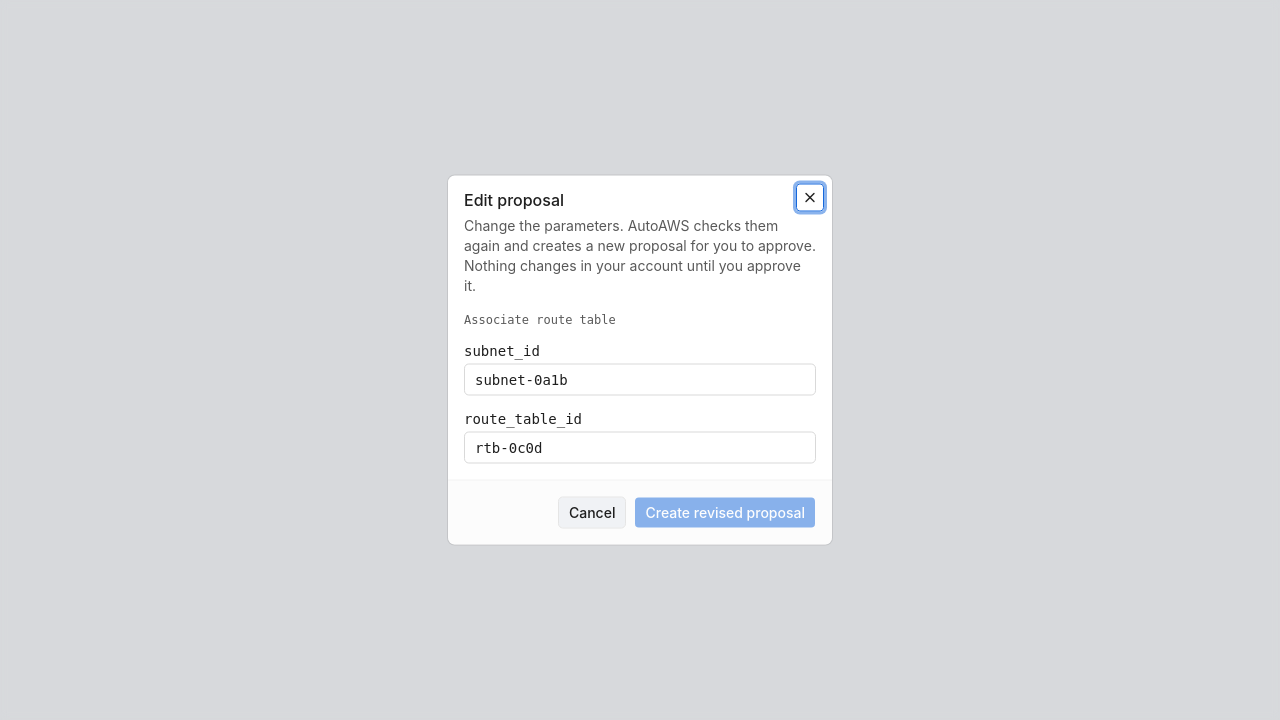
Test case: EditProposalDialog › shows why the server refused the new parameters and stays open
Expected: the field labelled "subnet_id" is shown, [464,364,816,396]
Step 1. Replace the text in the field labelled "route_table_id" with "rtb-0e0f" → (640, 448), box [464,432,816,464]
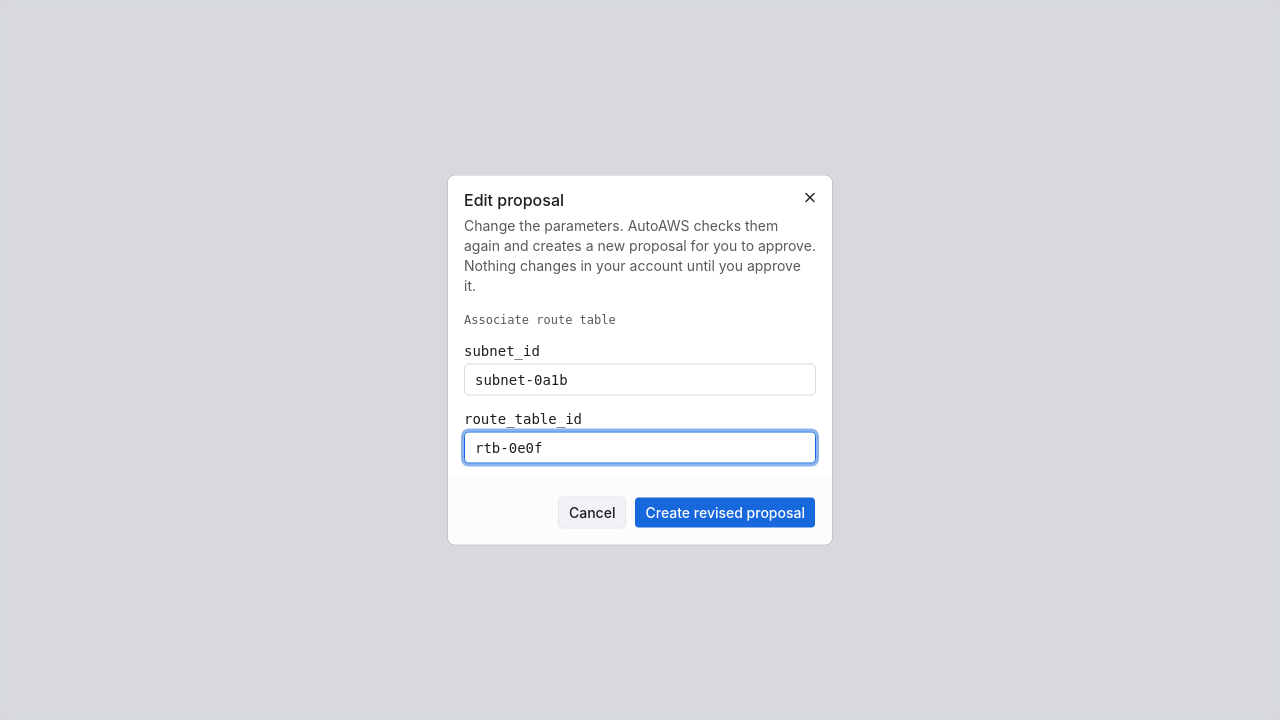
Step 2. Click the button "Create revised proposal" → click(725, 512), box [634,496,816,528]
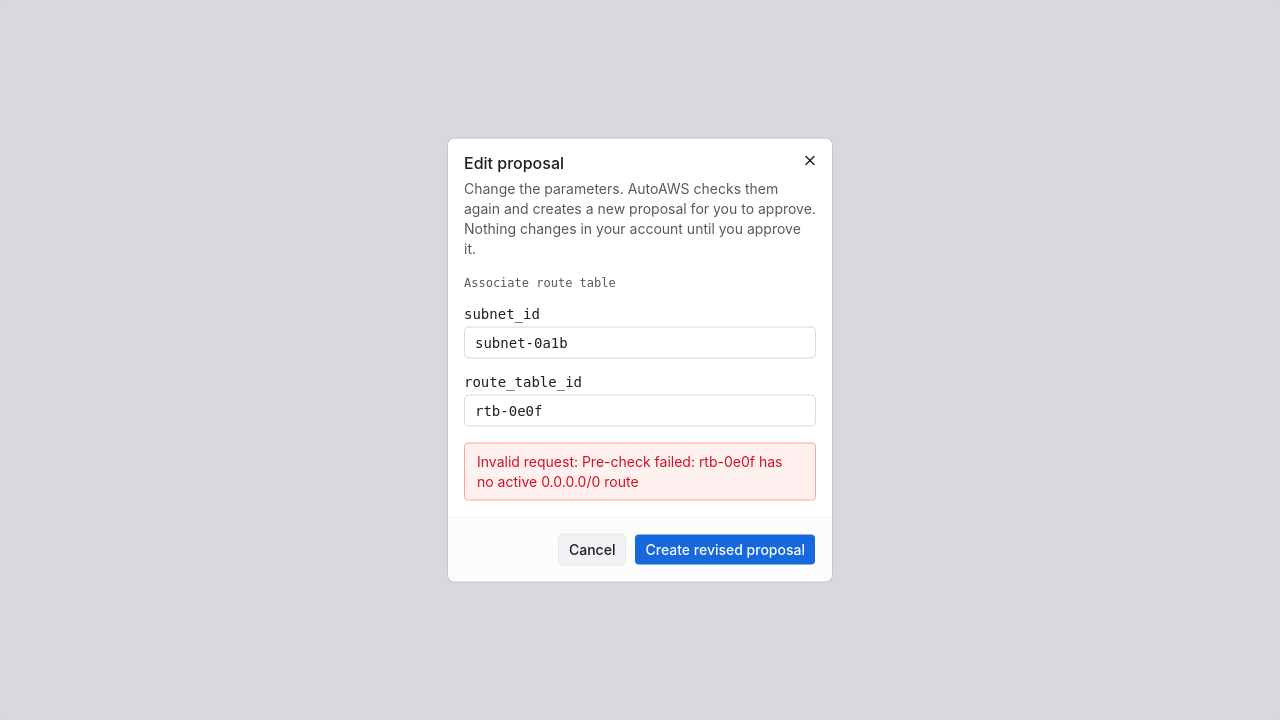
Now the message shows "has no active 0.0.0.0/0 route", box [477,452,782,490]
